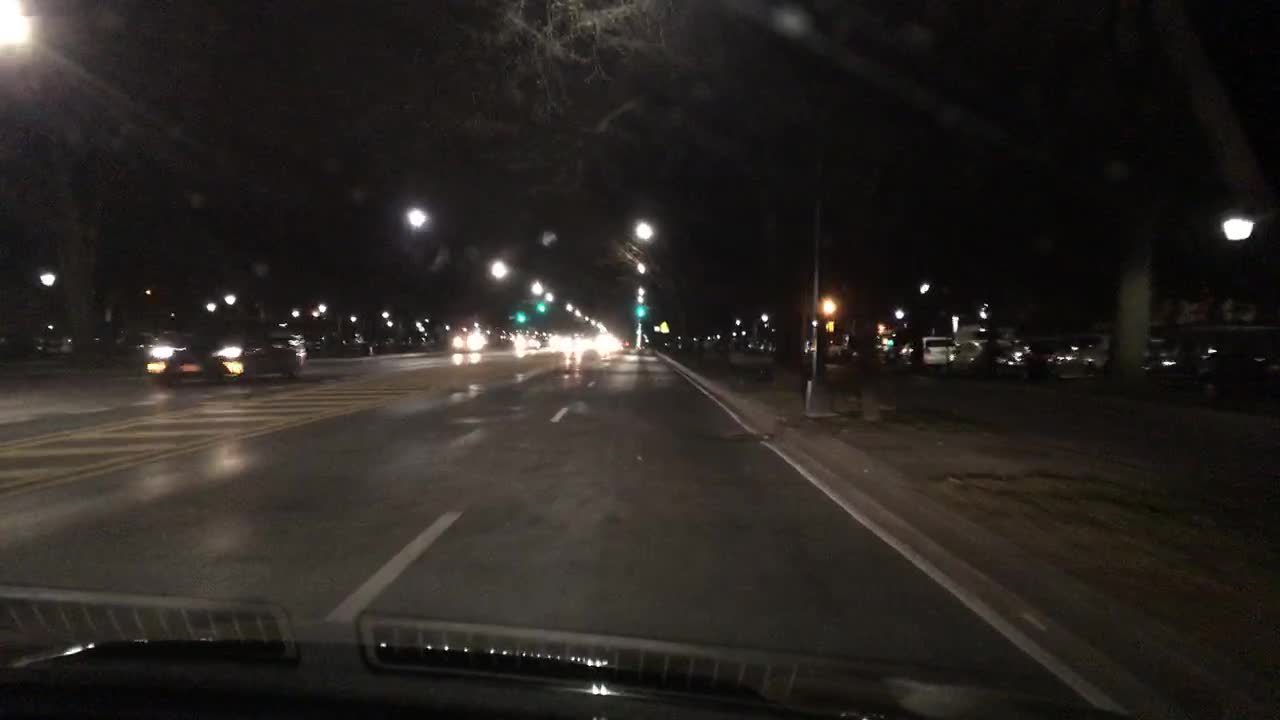car: (140, 305, 307, 379), (1189, 349, 1271, 394), (1043, 334, 1112, 377), (1142, 337, 1208, 381), (967, 340, 1035, 376), (37, 330, 103, 352), (923, 335, 960, 371), (822, 328, 854, 364), (875, 340, 916, 367), (449, 327, 489, 349), (125, 334, 153, 357), (346, 332, 372, 354), (314, 335, 336, 352), (592, 335, 614, 350), (756, 342, 780, 355), (511, 334, 525, 356), (614, 337, 629, 357), (575, 334, 590, 350), (545, 334, 557, 350), (525, 339, 543, 349), (560, 334, 573, 347)
traffic light: (634, 298, 643, 318), (516, 310, 523, 325), (536, 300, 543, 313)
traffic sign: (658, 320, 668, 334)
